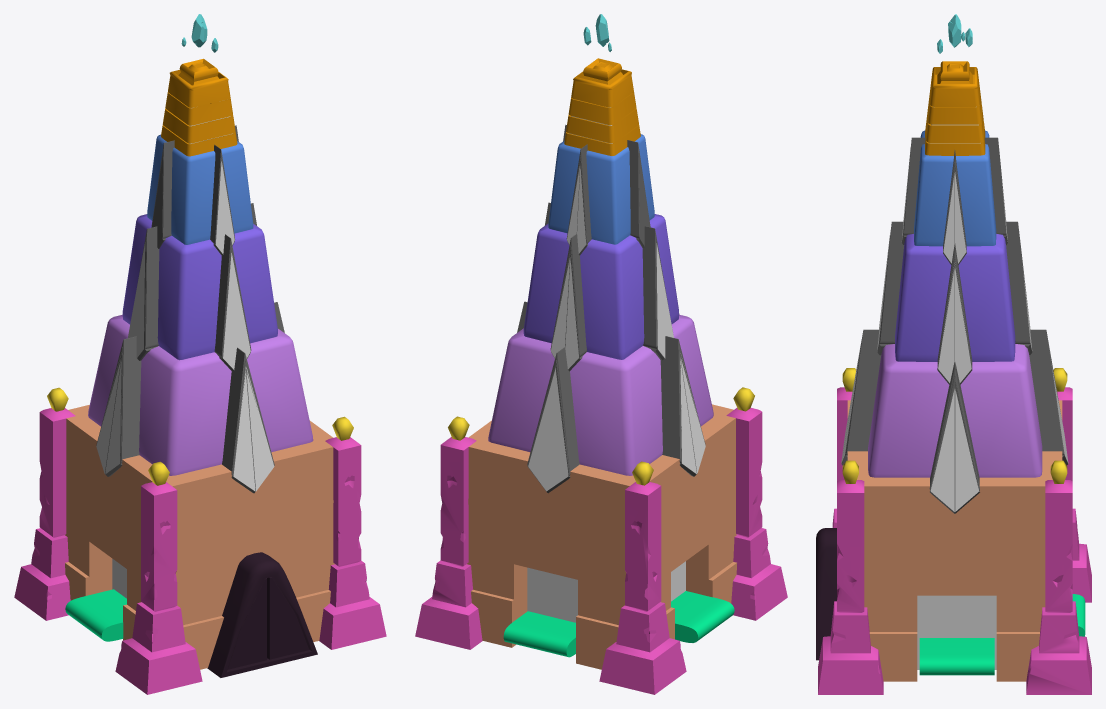
Rendered from Main Tower LV5.fbx.
3 views of the same model, side by side, from view 1: azimuth 30°, elevation 25°; view 2: azimuth 150°, elevation 25°; view 3: azimuth 270°, elevation 25° (orthographic). The views are drawn at different scales.
Visible parts, largest first — view 1: Cube.001; view 2: Cube.001; view 3: Cube.001.
Part boxes in pixels (x1,y1,x2,y2): Cube.001: [14, 14, 386, 694]; Cube.001: [415, 14, 787, 694]; Cube.001: [816, 14, 1091, 694].
Size of the model in its own units: 254 by 612 by 246.
